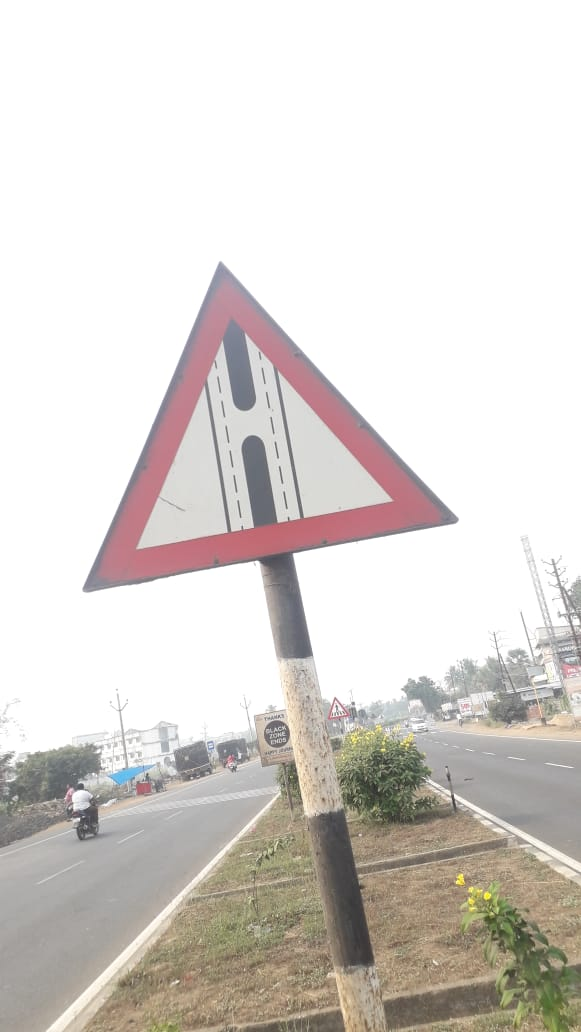highway go straight: (62, 261, 467, 622)
